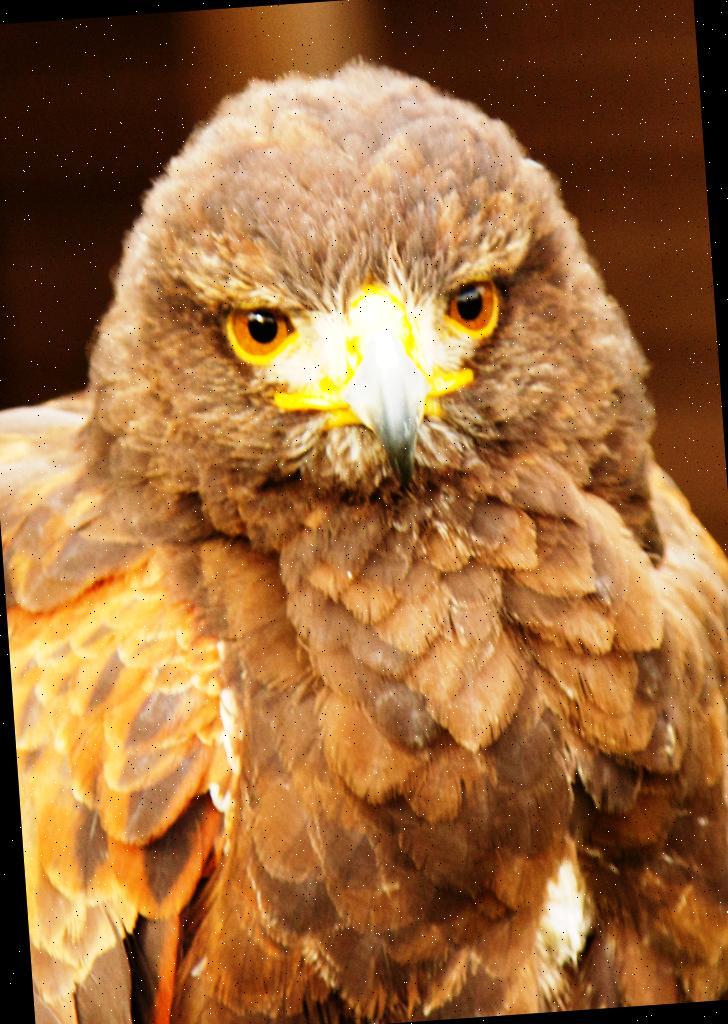Owl: (12, 32, 706, 996)
